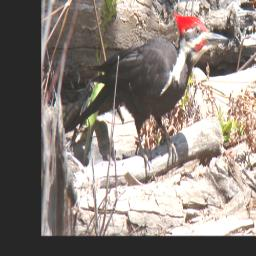Woodpecker: (65, 11, 231, 176)
